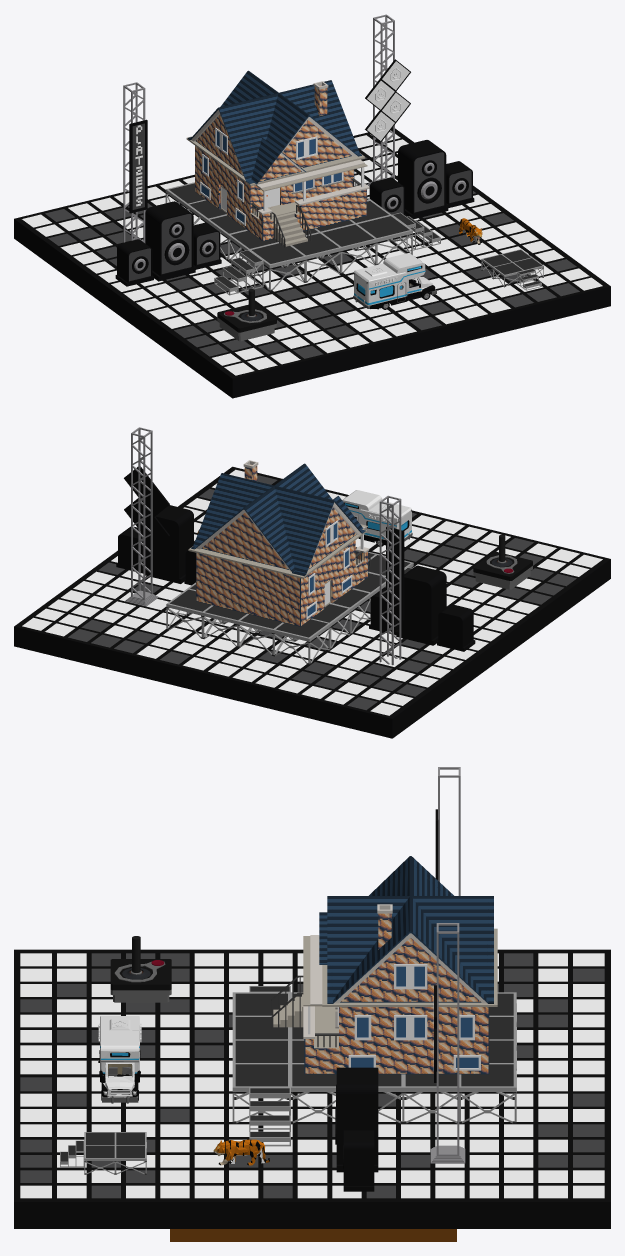
3 views of the same model, one above another, from view 1: azimuth 30°, elevation 25°; view 2: azimuth 150°, elevation 25°; view 3: azimuth 270°, elevation 25° (orthographic). The views are drawn at different scales.
Visible parts, largest first — view 1: Cube.008, Cube.430, VEHICLES_CAMPER, OBJRANDOM_JOYSTICK; view 2: Cube.008, Cube.430, VEHICLES_CAMPER, OBJRANDOM_JOYSTICK; view 3: Cube.008, Cube.430, UNDERGROUND_ART_PIECE_VAN_GOGH, VEHICLES_CAMPER, OBJRANDOM_JOYSTICK, ANIMAL_TIGRE.
Boxes of the visible parts, x1=… form: Cube.008: x1=14, y1=14, x2=610, y2=398; Cube.430: x1=186, y1=70, x2=369, y2=247; VEHICLES_CAMPER: x1=353, y1=253, x2=436, y2=309; OBJRANDOM_JOYSTICK: x1=217, y1=289, x2=276, y2=341; Cube.008: x1=14, y1=427, x2=610, y2=738; Cube.430: x1=188, y1=460, x2=370, y2=626; VEHICLES_CAMPER: x1=342, y1=490, x2=412, y2=546; OBJRANDOM_JOYSTICK: x1=473, y1=534, x2=532, y2=589; Cube.008: x1=14, y1=767, x2=610, y2=1228; Cube.430: x1=271, y1=856, x2=497, y2=1074; UNDERGROUND_ART_PIECE_VAN_GOGH: x1=170, y1=1229, x2=456, y2=1241; VEHICLES_CAMPER: x1=98, y1=1016, x2=141, y2=1103; OBJRANDOM_JOYSTICK: x1=110, y1=936, x2=171, y2=1002; ANIMAL_TIGRE: x1=213, y1=1139, x2=269, y2=1165.
Size of the model in its own units: 4000 by 2098 by 4000.
Materials: 45 (3 with a texture image).
